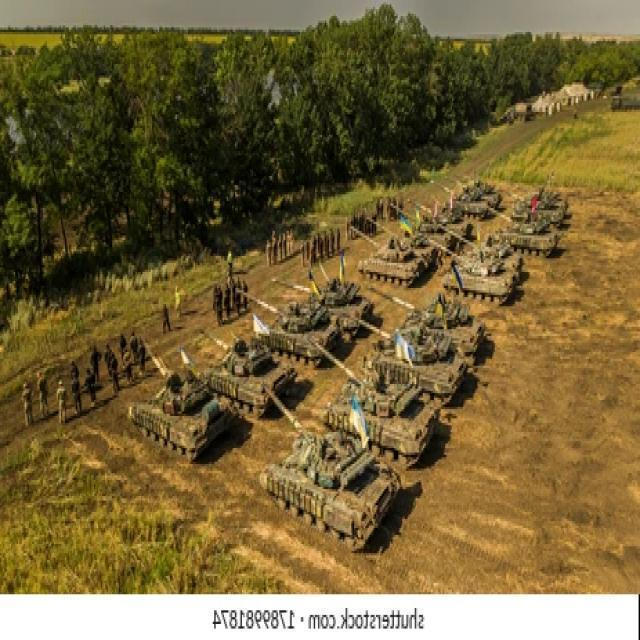MIL_MBT: (259, 384, 400, 553), (313, 343, 442, 471), (128, 342, 230, 463), (200, 324, 298, 420), (236, 281, 340, 368), (430, 234, 514, 308), (312, 250, 374, 335), (488, 199, 564, 256), (358, 235, 430, 288)
